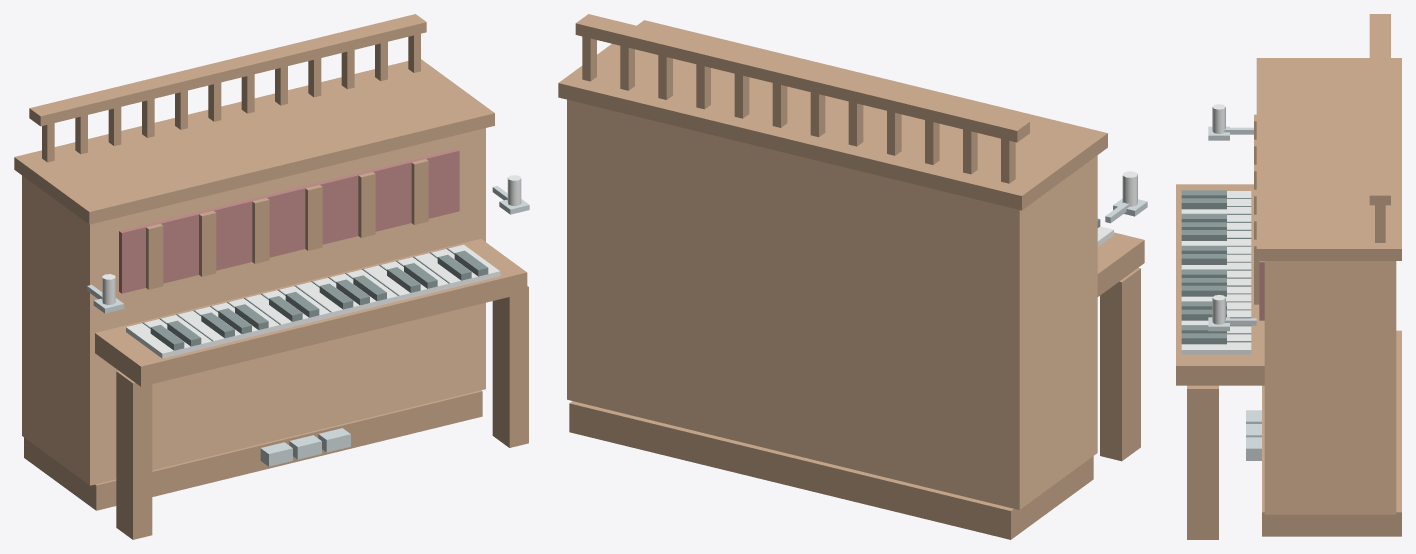
Rendered from pianoCottage.glb.
3 views of the same model, side by side, from view 1: azimuth 30°, elevation 25°; view 2: azimuth 150°, elevation 25°; view 3: azimuth 270°, elevation 25° (orthographic). The views are drawn at different scales.
Visible parts, largest first — view 1: pianoCottage; view 2: pianoCottage; view 3: pianoCottage.
Boxes of the visible parts, x1=… form: pianoCottage: x1=14, y1=14, x2=529, y2=539; pianoCottage: x1=558, y1=14, x2=1147, y2=539; pianoCottage: x1=1176, y1=14, x2=1401, y2=539.
Size of the model in its own units: 0.88 by 0.7 by 0.42.
